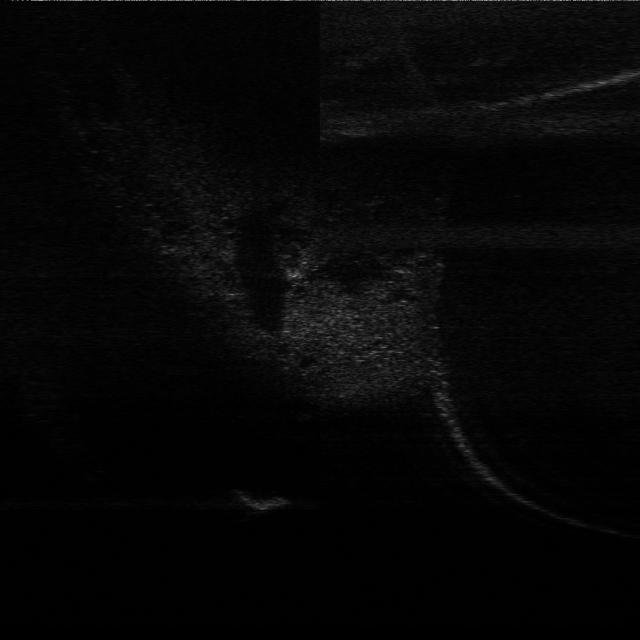square cage: (236, 479, 292, 516)
